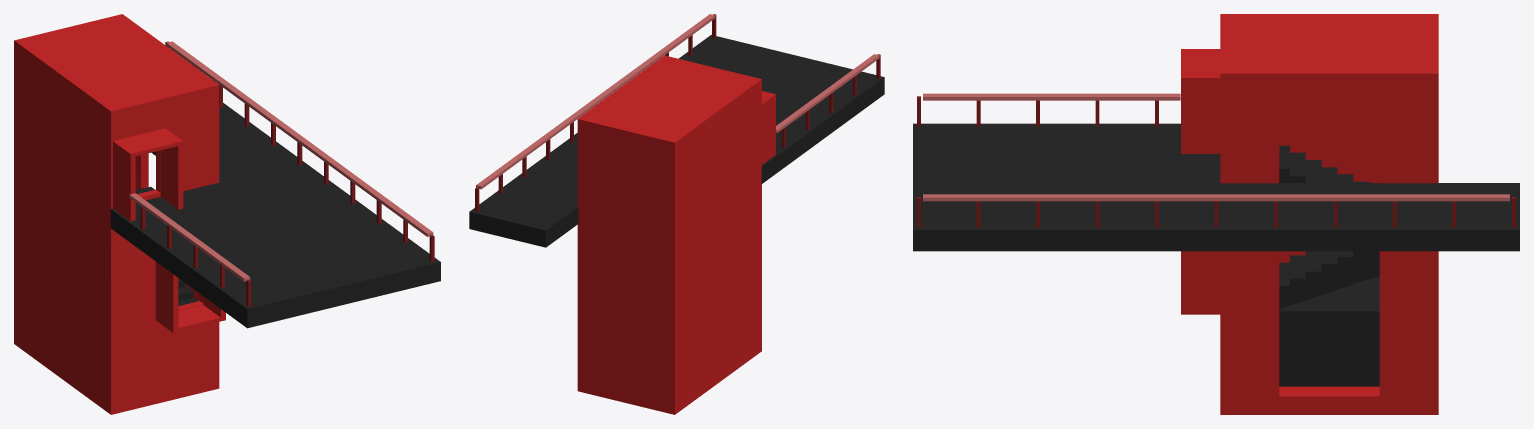
Rendered from PF_Staircase_mirrored.fbx.
3 renders of one model, left to right at view 1: azimuth 30°, elevation 25°; view 2: azimuth 150°, elevation 25°; view 3: azimuth 270°, elevation 25°, orthographic. The views are drawn at different scales.
Visible parts, largest first — view 1: Base, Würfel_1, Gelander, GelanderStrab; view 2: Base, Würfel_1, Gelander, GelanderStrab; view 3: Würfel_1, Base, Gelander, GelanderStrab.
Boxes of the visible parts, left/top/right/bottom form: Base: left=14, top=14, right=225, bottom=414; Würfel_1: left=110, top=103, right=440, bottom=328; Gelander: left=129, top=41, right=433, bottom=281; GelanderStrab: left=140, top=41, right=434, bottom=307; Base: left=577, top=55, right=775, bottom=414; Würfel_1: left=469, top=35, right=884, bottom=247; Gelander: left=476, top=14, right=879, bottom=189; GelanderStrab: left=475, top=14, right=880, bottom=212; Würfel_1: left=913, top=123, right=1519, bottom=386; Base: left=1181, top=14, right=1438, bottom=414; Gelander: left=923, top=93, right=1509, bottom=201; GelanderStrab: left=917, top=96, right=1515, bottom=227.
Size of the model in its own units: 634 by 950 by 1530.
